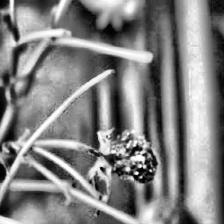Gray Mold: (82, 128, 159, 204)
